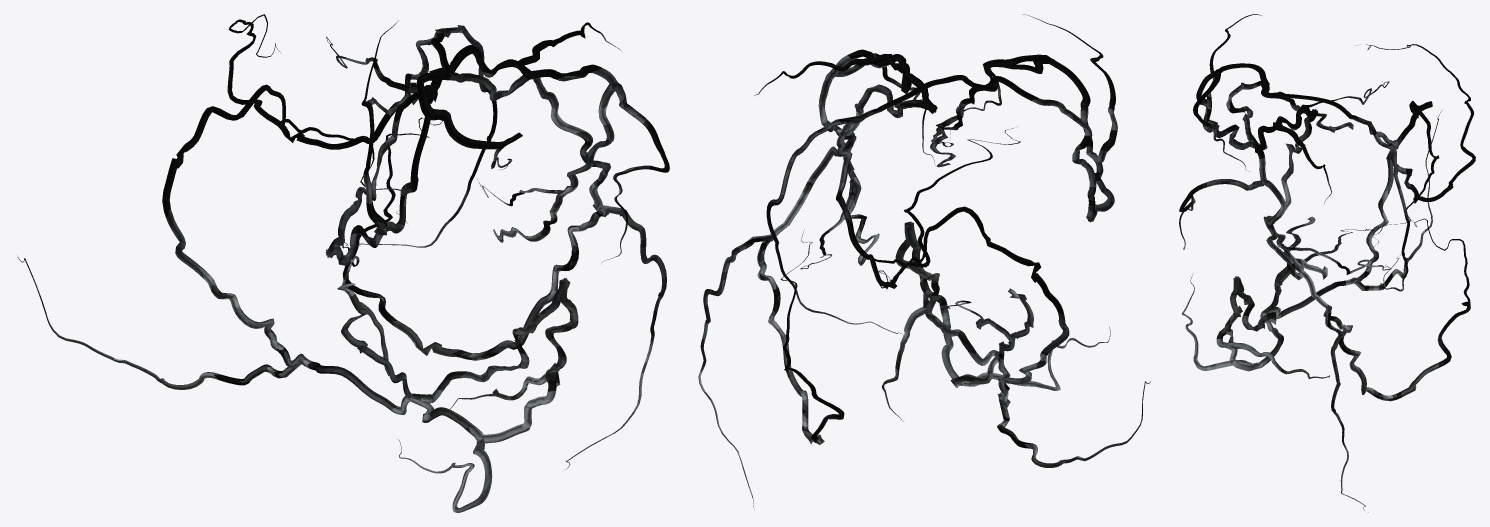
The model's file is Lightning_01_SM.glb.
3 renders of one model, left to right at view 1: azimuth 30°, elevation 25°; view 2: azimuth 150°, elevation 25°; view 3: azimuth 270°, elevation 25°, orthographic. The views are drawn at different scales.
Parts seen in each view (by area): view 1: Lightning_01_SM; view 2: Lightning_01_SM; view 3: Lightning_01_SM.
Part boxes in pixels (x1,y1,x2,y2): Lightning_01_SM: (17, 14, 669, 512); Lightning_01_SM: (698, 14, 1150, 509); Lightning_01_SM: (1179, 14, 1475, 512).
Size of the model in its own units: 0.3042 by 0.2842 by 0.1844.
Materials: 1 (1 with a texture image).
